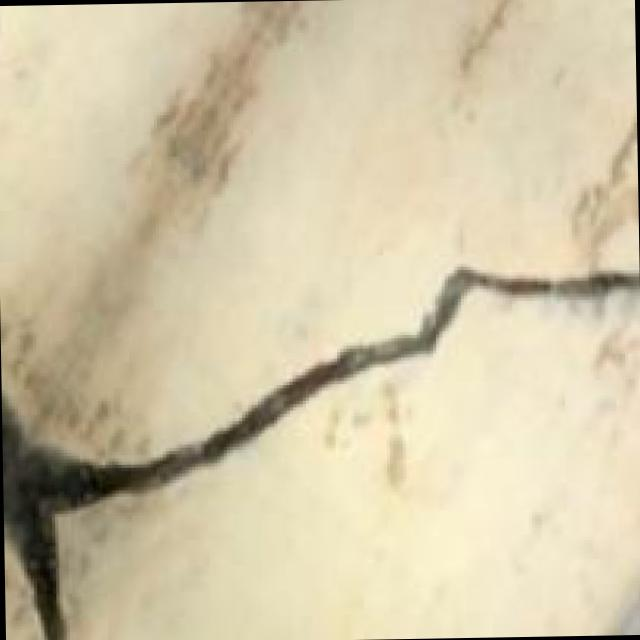crack: (4, 183, 640, 640)
